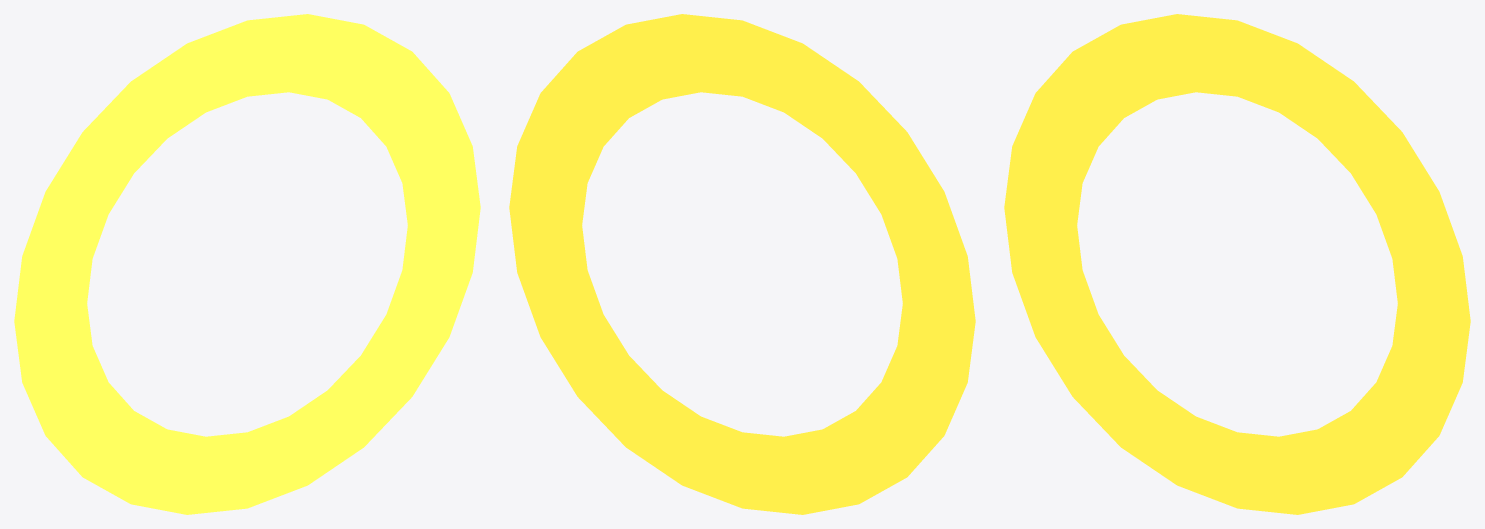
Rendered from cursor.glb.
3 renders of one model, left to right at view 1: azimuth 30°, elevation 25°; view 2: azimuth 150°, elevation 25°; view 3: azimuth 330°, elevation 25°, orthographic.
Parts seen in each view (by area): view 1: cursor; view 2: cursor; view 3: cursor.
Boxes of the visible parts, x1=… form: cursor: x1=14, y1=14, x2=480, y2=514; cursor: x1=509, y1=14, x2=975, y2=514; cursor: x1=1004, y1=14, x2=1470, y2=514.
Size of the model in its own units: 0.64 by 0.64 by 0.
